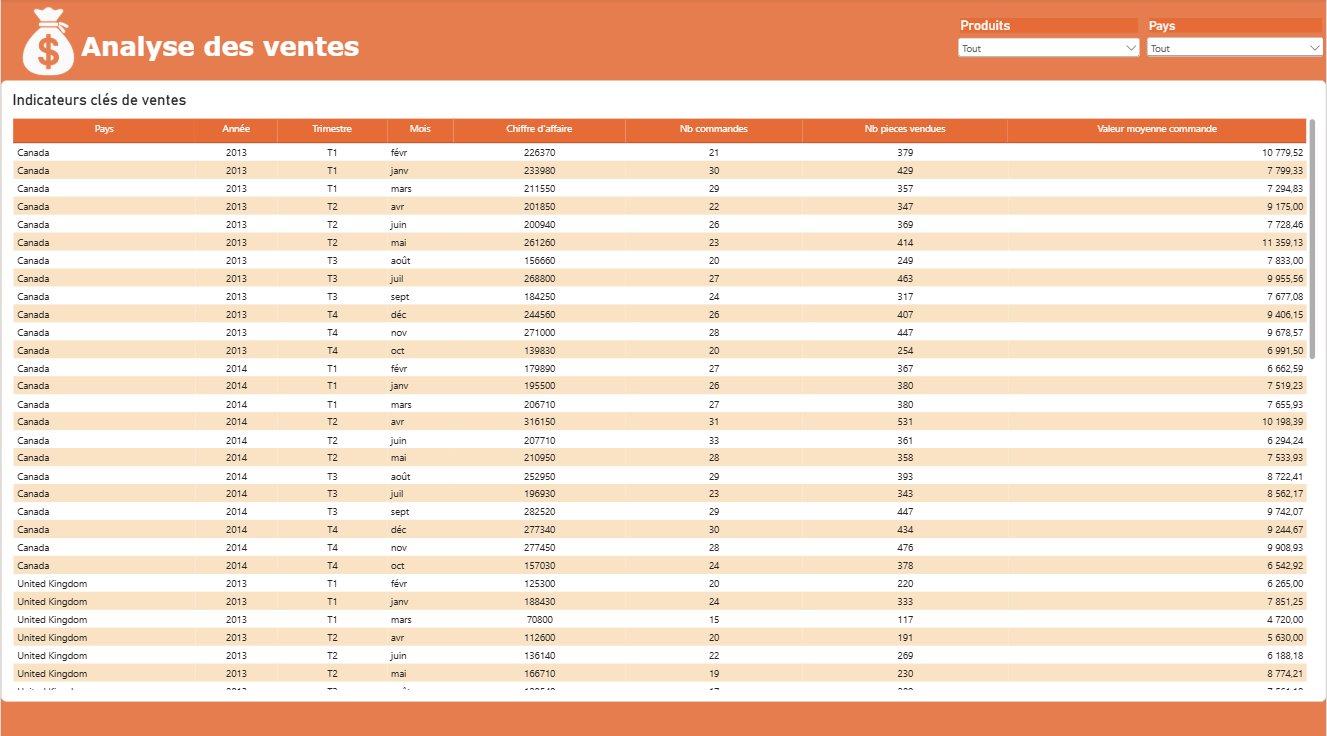

Layout of this report page (visuals, bound fields, positions):
{"tool":"powerbi","page":{"name":"Indicateurs clés des ventes","canvas":[1920,1080],"ordinal":2},"visuals":[{"type":"tableEx","title":"Indicateurs clés de ventes","fields":{"Values":["Pays.SalesCountry","Calendrier.Année Hiérarchie.Année","Calendrier.Année Hiérarchie.Trimestre","Calendrier.Année Hiérarchie.Mois","Calendrier.Chiffre d'affaire","Calendrier.Nb commandes","Calendrier.Nb pieces vendues","Calendrier.Valeur moyenne commande"]},"box":[0,119.4,1920.1,899.4],"z":0},{"type":"slicer","fields":{"Values":["Produits.ProductName"]},"box":[1380.8,29,273.3,108.6],"z":1},{"type":"slicer","fields":{"Values":["Pays.SalesCountry"]},"box":[1654,29,266,108.6],"z":2},{"type":"image","box":[0,0,137.5,119.4],"z":3},{"type":"textbox","box":[115.8,47.1,488.6,56.1],"z":4}]}

Visuals, with their boxes in screenshot pixels (x1, y1, x2, y2), scaled from the page's 1920x1080 canvas onto the 1327x736 screenshot:
"Indicateurs clés de ventes" tableEx: (0,81,1326,694)
slicer - Produits.ProductName: (954,20,1143,94)
slicer - Pays.SalesCountry: (1143,20,1326,94)
image: (0,0,95,81)
textbox: (80,32,418,70)
